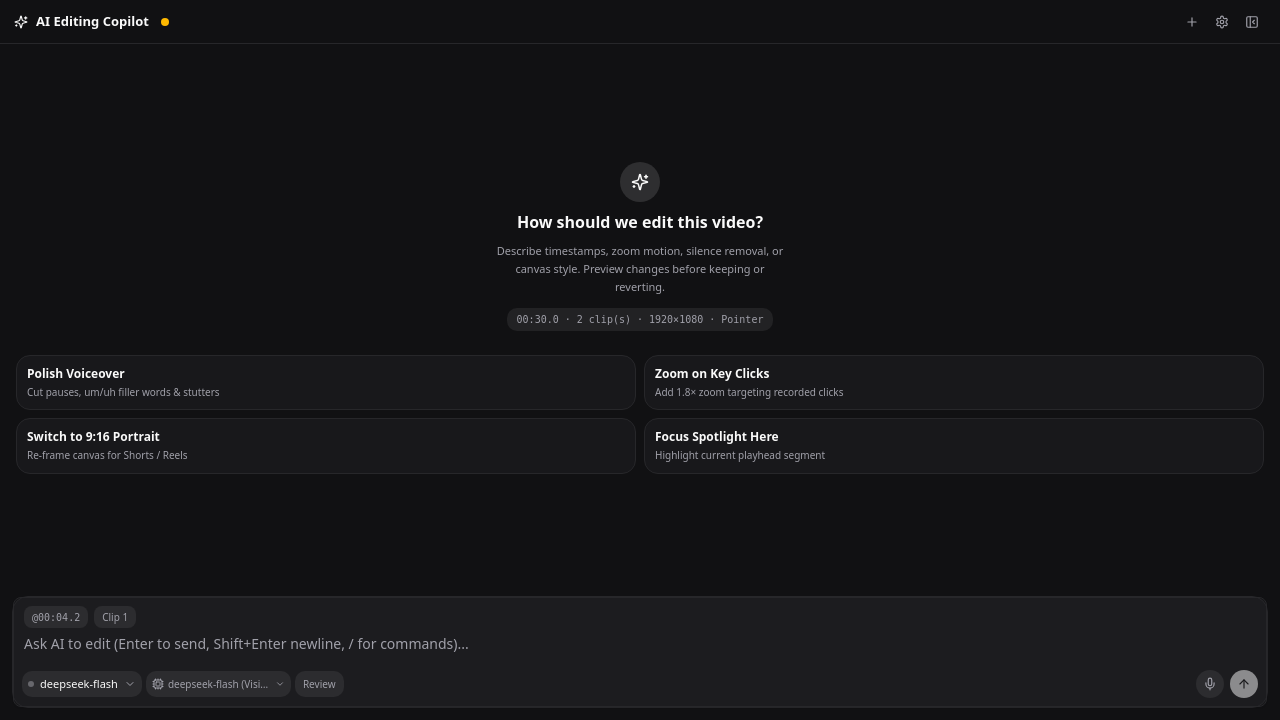
Test case: FrameTrail AI Copilot UI › only offers deepseek-flash vision preset when DeepSeek provider is selected
Later steps or results of the test are not shown.
Click the button named "Model Settings".
click(1222, 22)  # box [1208,8,1236,36]
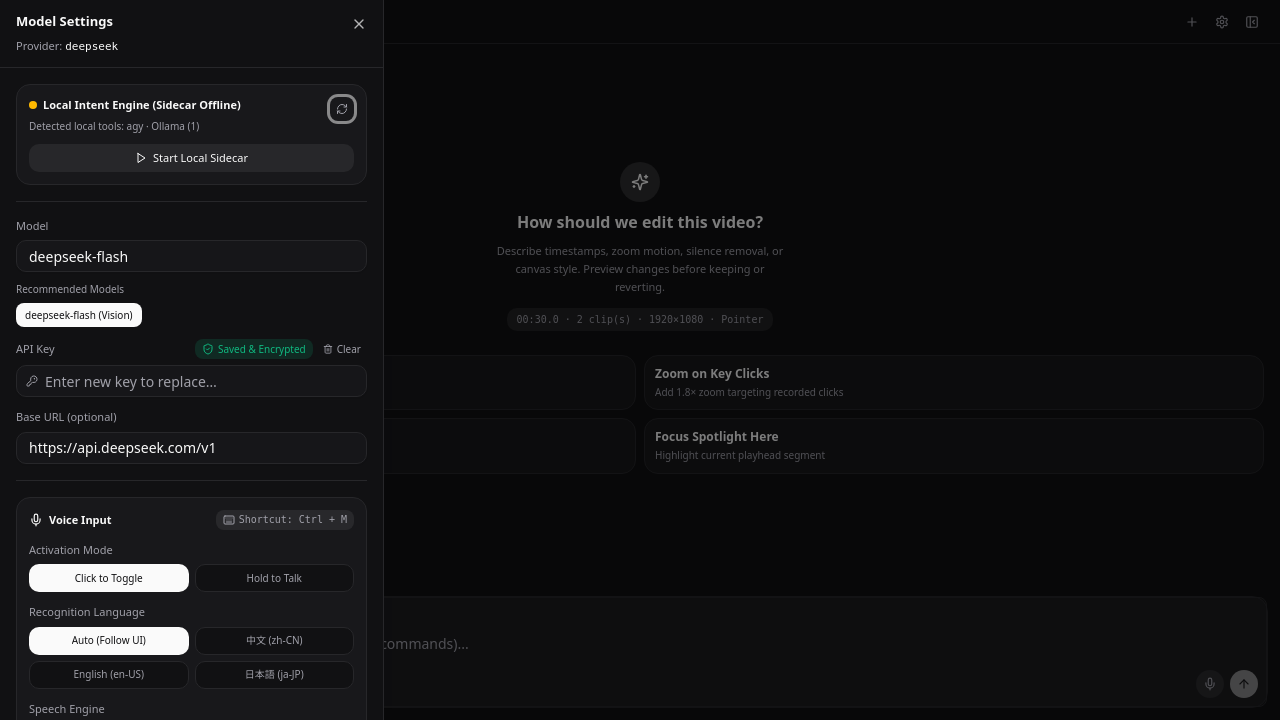
Now the button with test id "settings-model-preset-deepseek-flash" reads "deepseek-flash (Vision)", box [16,303,142,327]
